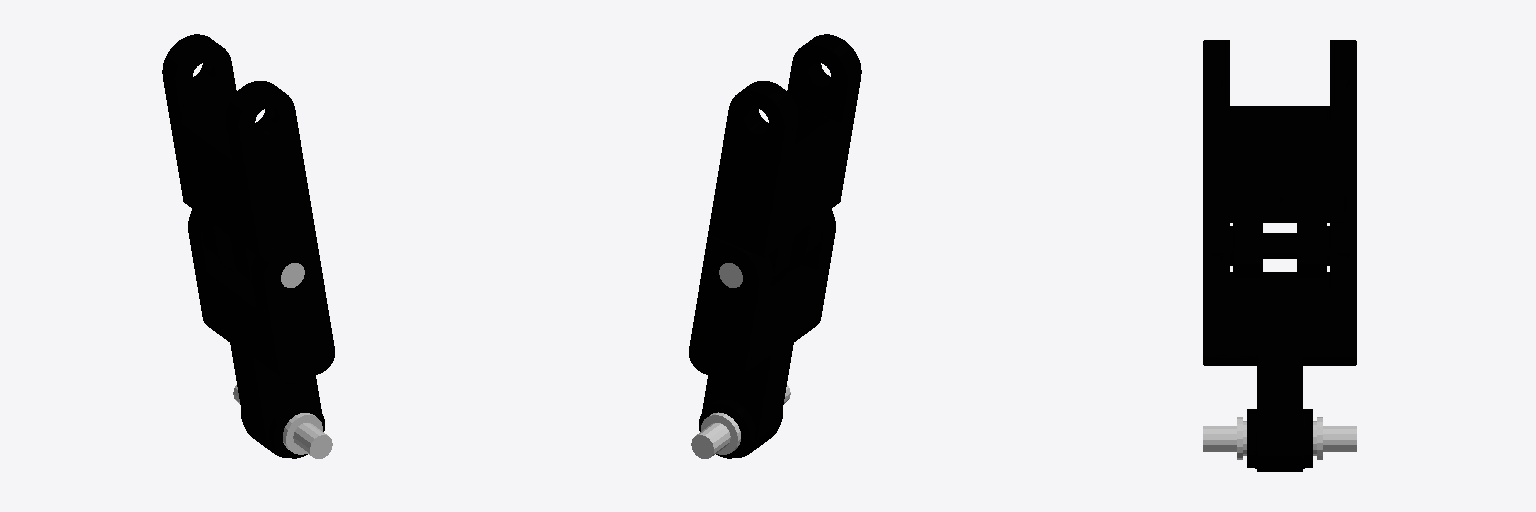
3 renders of one model, left to right at view 1: azimuth 30°, elevation 25°; view 2: azimuth 150°, elevation 25°; view 3: azimuth 270°, elevation 25°, orthographic.
Parts seen in each view (by area): view 1: Left_2_Link; view 2: Left_2_Link; view 3: Left_2_Link.
Part boxes in pixels (bbox=[...]): Left_2_Link: bbox=[162, 34, 334, 458]; Left_2_Link: bbox=[689, 34, 861, 458]; Left_2_Link: bbox=[1203, 40, 1356, 471].
Bounding box in the file's own units: 0.0194 × 0.0662 × 0.023.